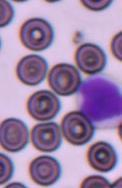L: (76, 72, 122, 127)
